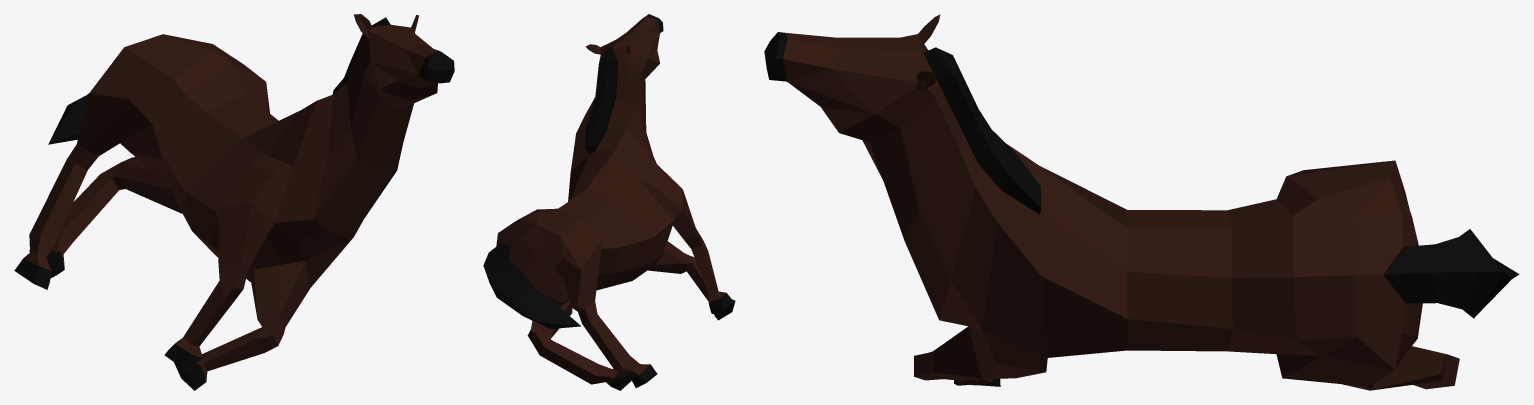
File: Horse_000011.obj
3 views of the same model, side by side, from view 1: azimuth 30°, elevation 25°; view 2: azimuth 150°, elevation 25°; view 3: azimuth 270°, elevation 25° (orthographic). The views are drawn at different scales.
Visible parts, largest first — view 1: Horse_Cylinder; view 2: Horse_Cylinder; view 3: Horse_Cylinder.
Boxes of the visible parts, <box> form: Horse_Cylinder: <box>14,14,454,390</box>; Horse_Cylinder: <box>483,14,735,390</box>; Horse_Cylinder: <box>764,14,1519,390</box>.
Size of the model in its own units: 4.62 by 6.17 by 8.88.
